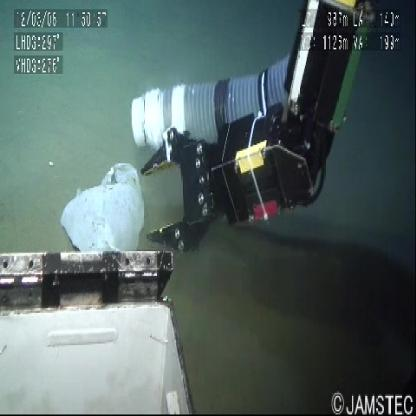Rov: (126, 1, 372, 258), (0, 235, 198, 416)
Rác: (51, 153, 161, 265)
